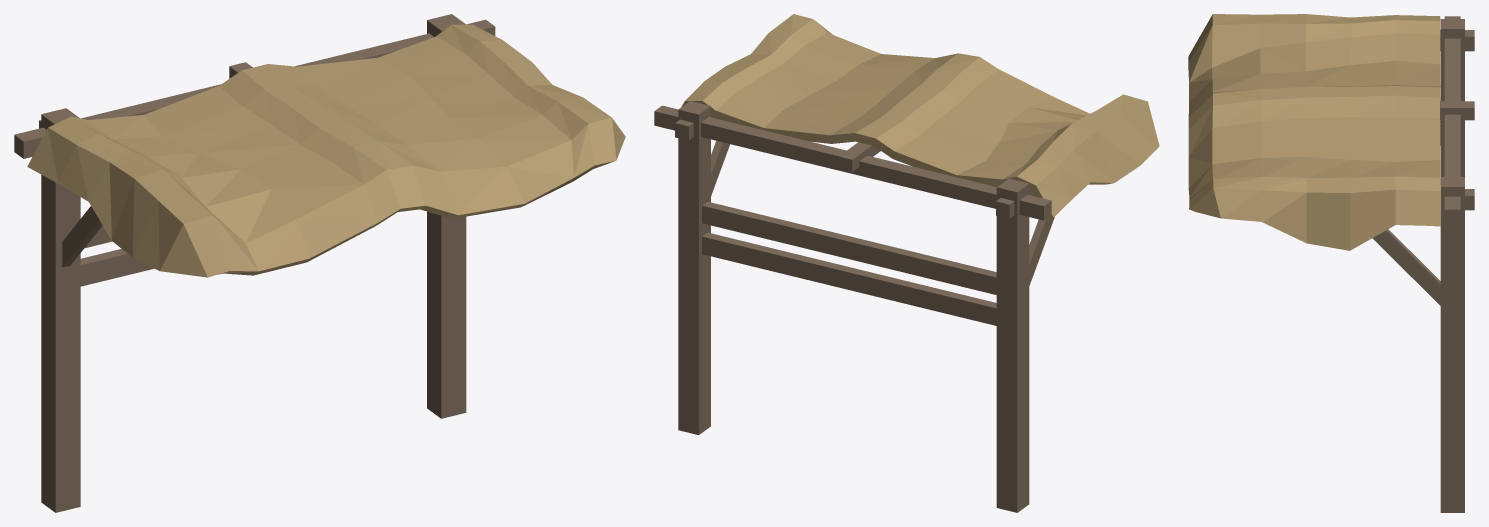
Rendered from SM_Prop_StallCover_01.glb.
3 renders of one model, left to right at view 1: azimuth 30°, elevation 25°; view 2: azimuth 150°, elevation 25°; view 3: azimuth 270°, elevation 25°, orthographic. The views are drawn at different scales.
Visible parts, largest first — view 1: SM_Prop_StallCover_01_part00; view 2: SM_Prop_StallCover_01_part00; view 3: SM_Prop_StallCover_01_part00.
Boxes of the visible parts, x1=… form: SM_Prop_StallCover_01_part00: x1=14, y1=14, x2=625, y2=512; SM_Prop_StallCover_01_part00: x1=654, y1=14, x2=1159, y2=512; SM_Prop_StallCover_01_part00: x1=1188, y1=14, x2=1474, y2=512.
Bounding box in the file's own units: 2.74 × 2.2 × 1.72.
Materials: 1 (1 with a texture image).
